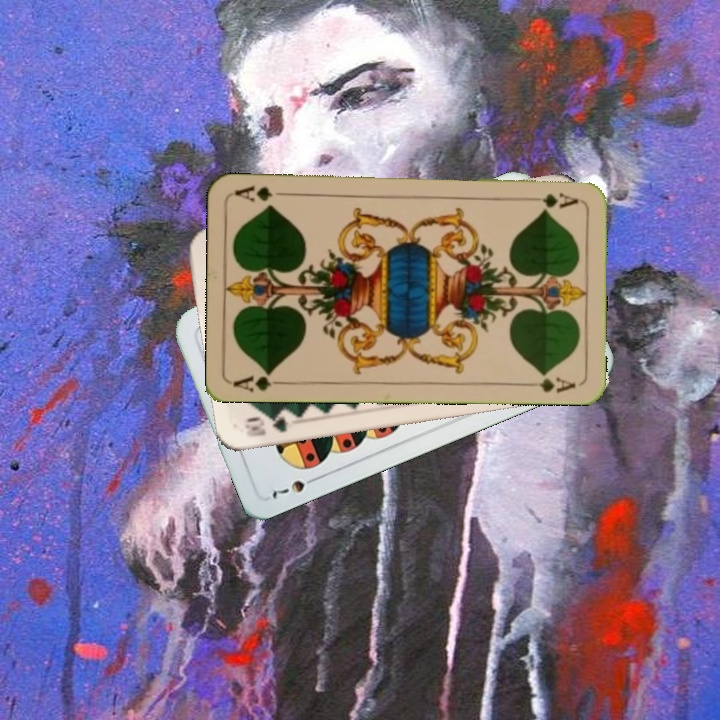G10: (241, 410, 291, 440)
GA: (230, 367, 290, 394), (522, 188, 581, 210)
S7: (265, 472, 322, 501)
